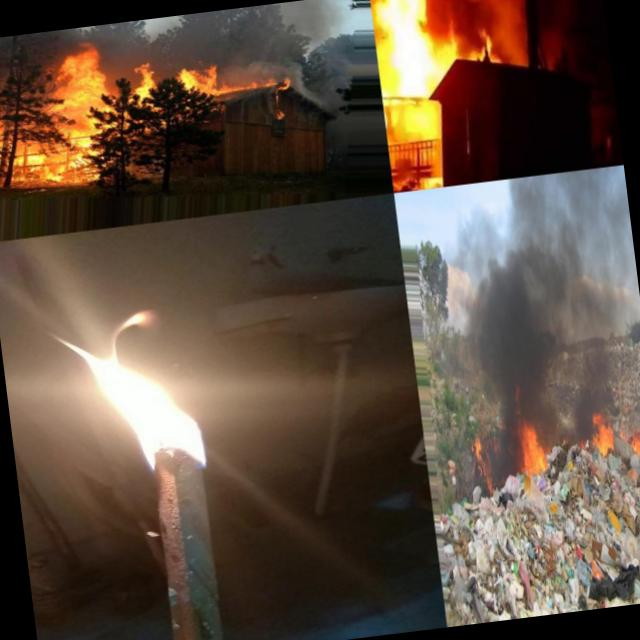fire: (34, 284, 224, 488), (35, 42, 116, 188), (371, 0, 451, 99), (0, 101, 51, 193), (445, 15, 500, 67), (515, 414, 549, 487), (168, 56, 220, 102), (218, 76, 293, 101), (586, 402, 616, 464), (123, 52, 160, 102), (466, 419, 489, 478), (625, 427, 640, 475), (272, 103, 288, 124)
smoke: (431, 172, 640, 418), (154, 0, 356, 62), (216, 44, 306, 86), (482, 414, 524, 488), (540, 406, 592, 458), (304, 40, 352, 96), (35, 18, 93, 58), (0, 33, 37, 86), (32, 25, 100, 50), (308, 92, 338, 118), (292, 74, 310, 97)
